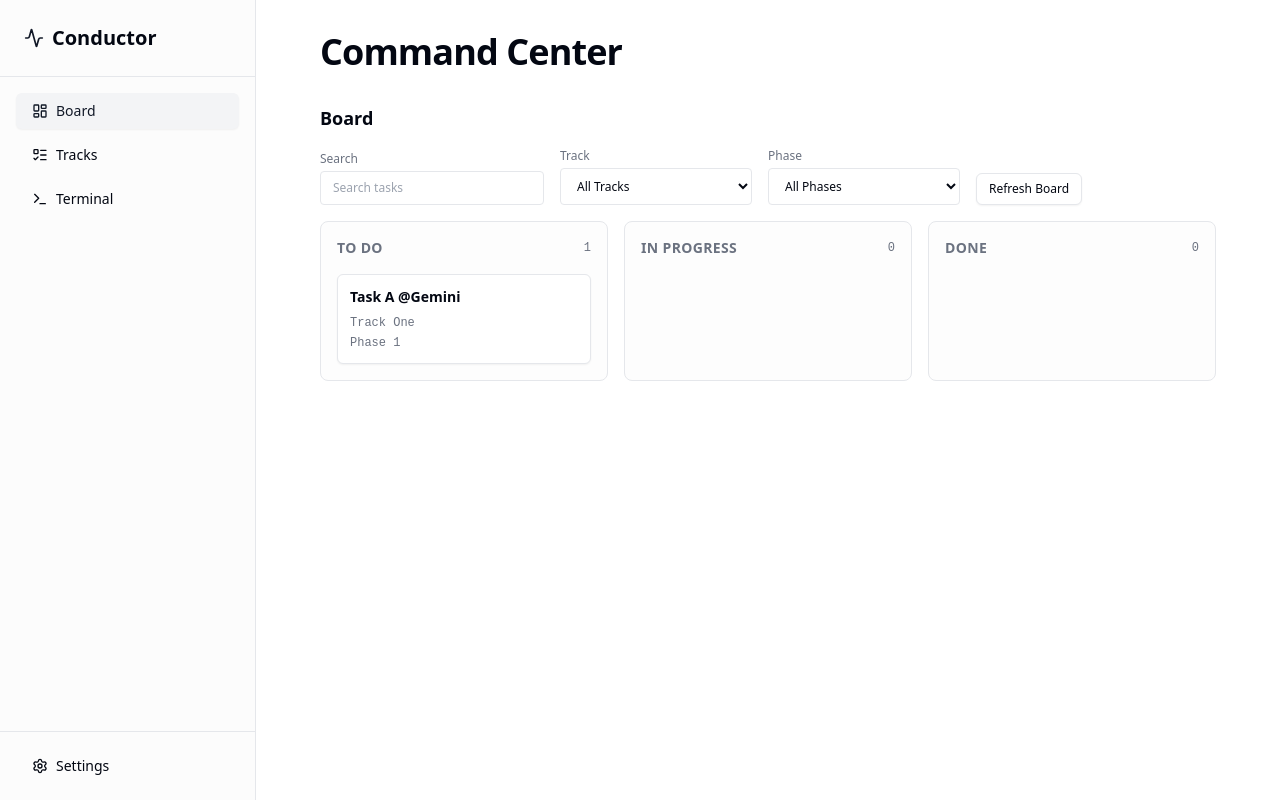
Test: App Agent Launch Integration › switches to terminal tab and focuses session when agent is launched
Open detail panel
Click the heading "Task A @Gemini": x=405, y=296 [350,287,460,306]
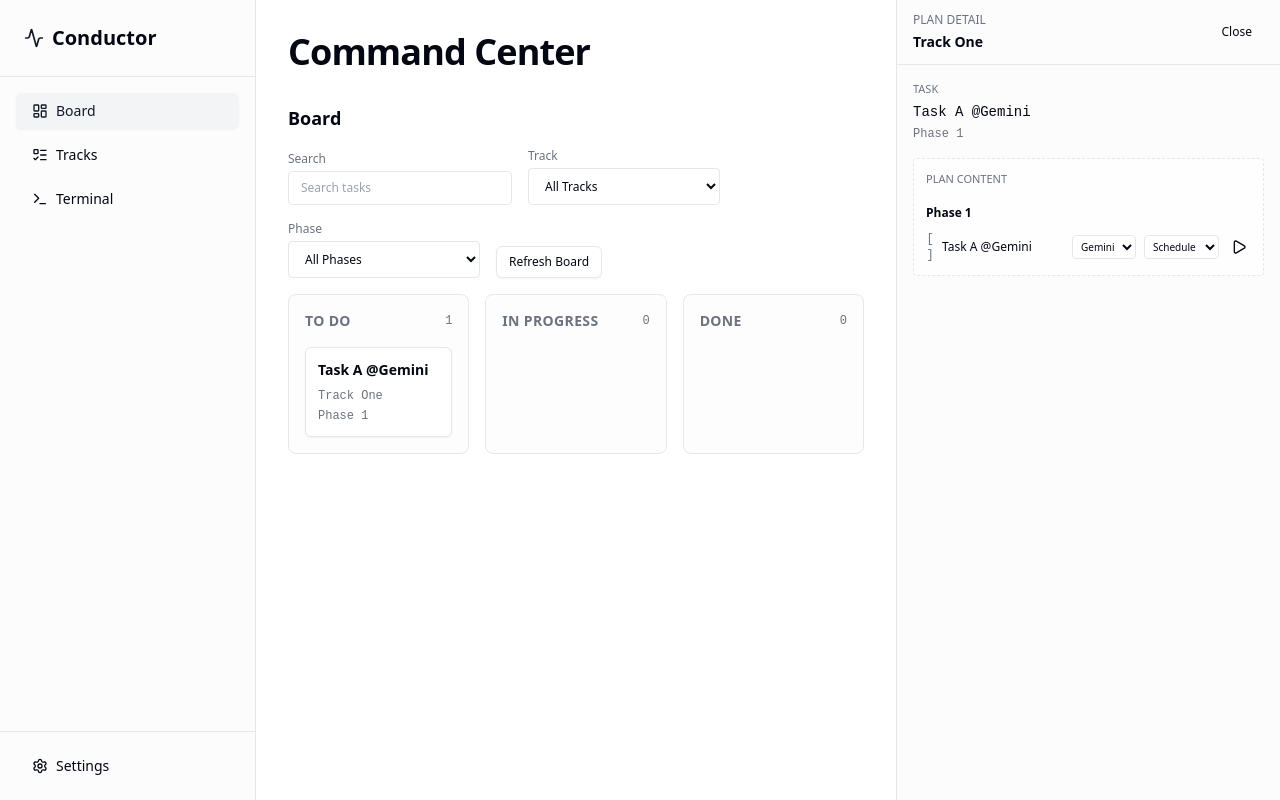
Click Run button
Click the button named "Run agent for Task A @Gemini": x=1239, y=247 [1227,235,1251,259]
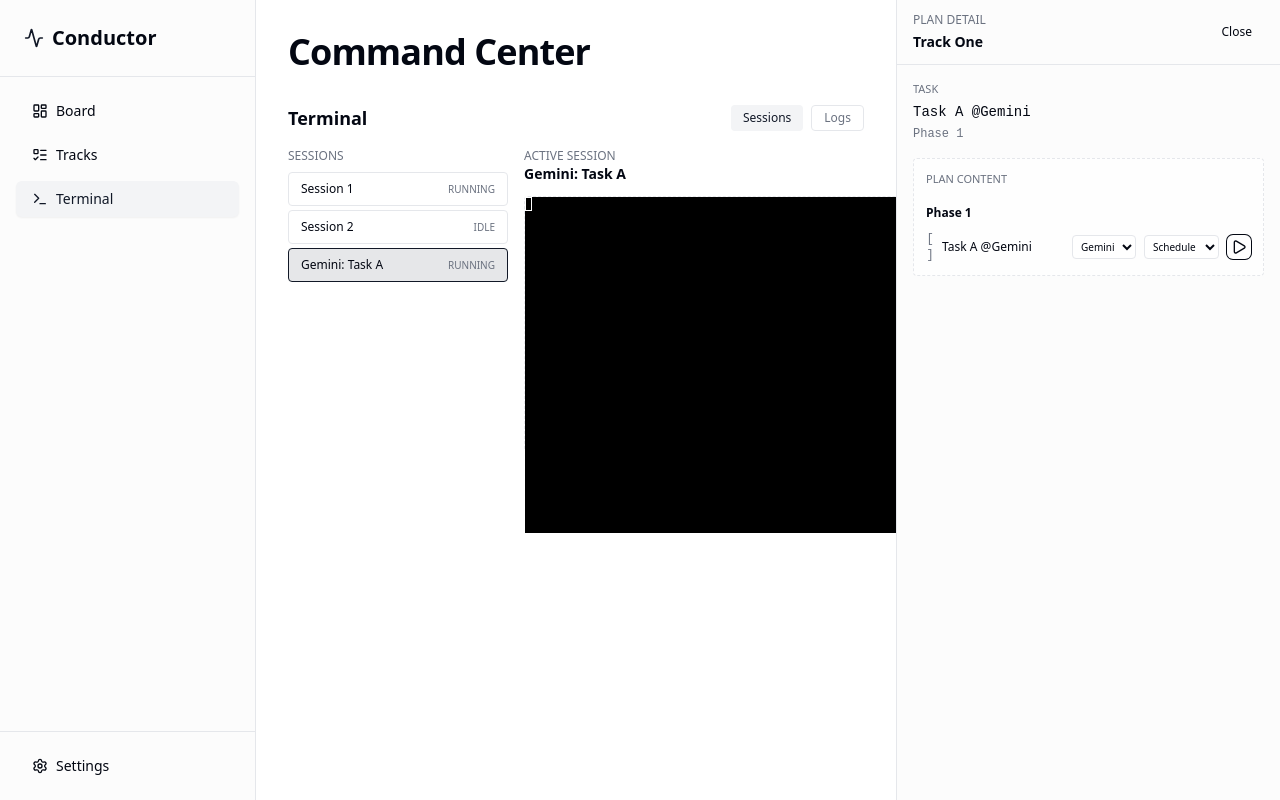
Expected: the element with test id "terminal-tab" is shown, [288,104,864,452]
Expected: the tab "Gemini: Task A running" is shown, [288,248,508,282]
